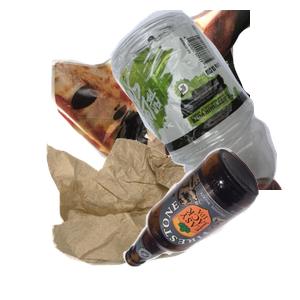glass: (120, 145, 300, 300)
paper: (49, 10, 289, 190)
plastic: (73, 10, 300, 190)
trash: (44, 136, 277, 300)
